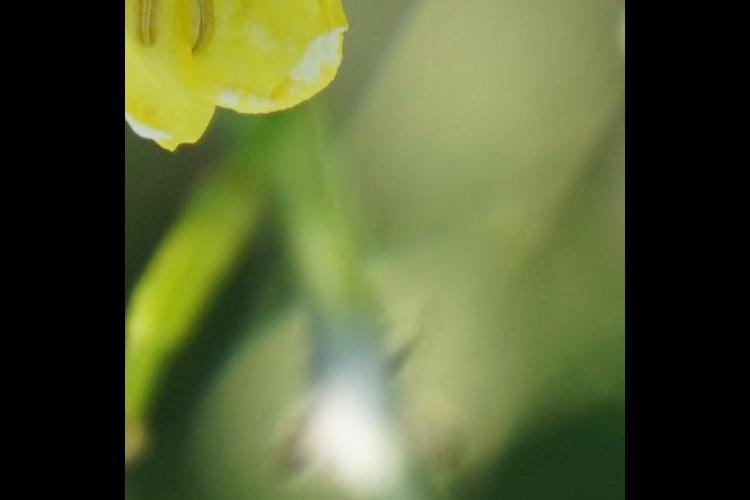yellow: (128, 1, 372, 157)
